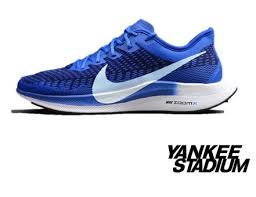nike: (85, 38, 210, 116)
